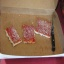pizza: (33, 18, 54, 36)
